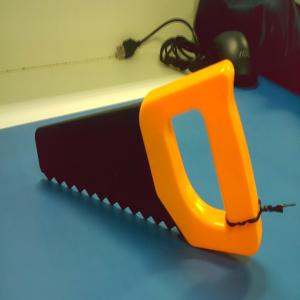serrote: (35, 59, 262, 257)
